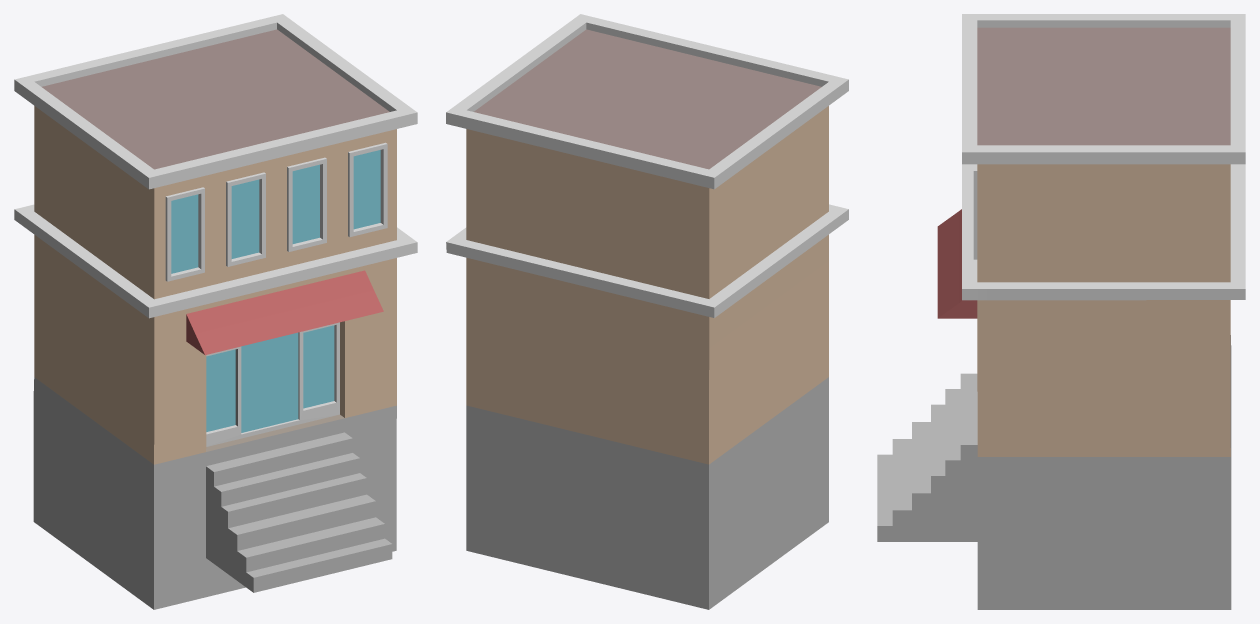
3 views of the same model, side by side, from view 1: azimuth 30°, elevation 25°; view 2: azimuth 150°, elevation 25°; view 3: azimuth 270°, elevation 25° (orthographic). The views are drawn at different scales.
Parts seen in each view (by area): view 1: pCube25; view 2: pCube25; view 3: pCube25.
Part boxes in pixels (left/top/right/bottom): pCube25: left=14, top=14, right=417, bottom=609; pCube25: left=446, top=14, right=848, bottom=609; pCube25: left=877, top=14, right=1245, bottom=609.
Bounding box in the file's own units: 619 × 971 × 698.
